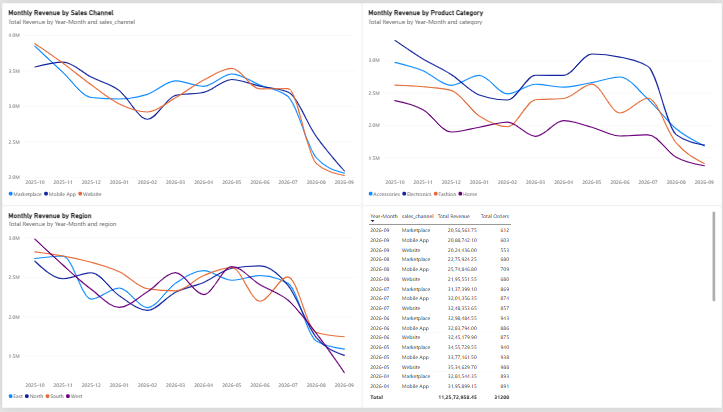

The page's visual inventory and layout, read from the dashboard file:
{"tool":"powerbi","page":{"name":"Revenue Driver Analysis  ","canvas":[1920,1080],"ordinal":1},"visuals":[{"type":"lineChart","title":"Monthly Revenue by Sales Channel","fields":{"Category":["DateTable.Year-Month"],"Series":["orders_clean.sales_channel"],"Y":["DateTable.Total Revenue"]},"box":[0,0,960,540],"z":0},{"type":"lineChart","title":"Monthly Revenue by Product Category","fields":{"Category":["DateTable.Year-Month"],"Series":["products_clean.category"],"Y":["DateTable.Total Revenue"]},"box":[960,0,960,540],"z":1},{"type":"lineChart","title":"Monthly Revenue by Region","fields":{"Category":["DateTable.Year-Month"],"Series":["customers_clean.region"],"Y":["DateTable.Total Revenue"]},"box":[0,540,960,540],"z":2},{"type":"tableEx","fields":{"Values":["DateTable.Year-Month","orders_clean.sales_channel","DateTable.Total Revenue","DateTable.Total Orders"]},"box":[960,540,960,540],"z":3}]}

Visuals, with their boxes in screenshot pixels (x1, y1, x2, y2), scaled from the page's 1920x1080 canvas onto the 723x412 screenshot:
"Monthly Revenue by Sales Channel" lineChart: BBox(0, 0, 362, 206)
"Monthly Revenue by Product Category" lineChart: BBox(362, 0, 722, 206)
"Monthly Revenue by Region" lineChart: BBox(0, 206, 362, 411)
tableEx - DateTable.Year-Month x orders_clean.sales_channel: BBox(362, 206, 722, 411)
